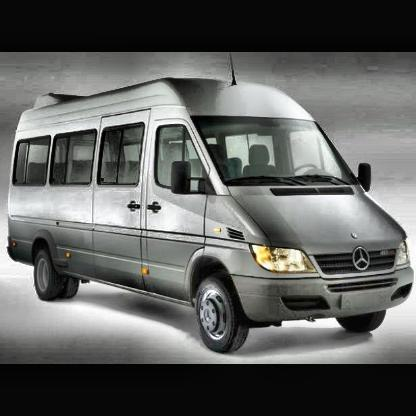Mercedes-Benz Sprinter Van 2012: (6, 54, 415, 355)
